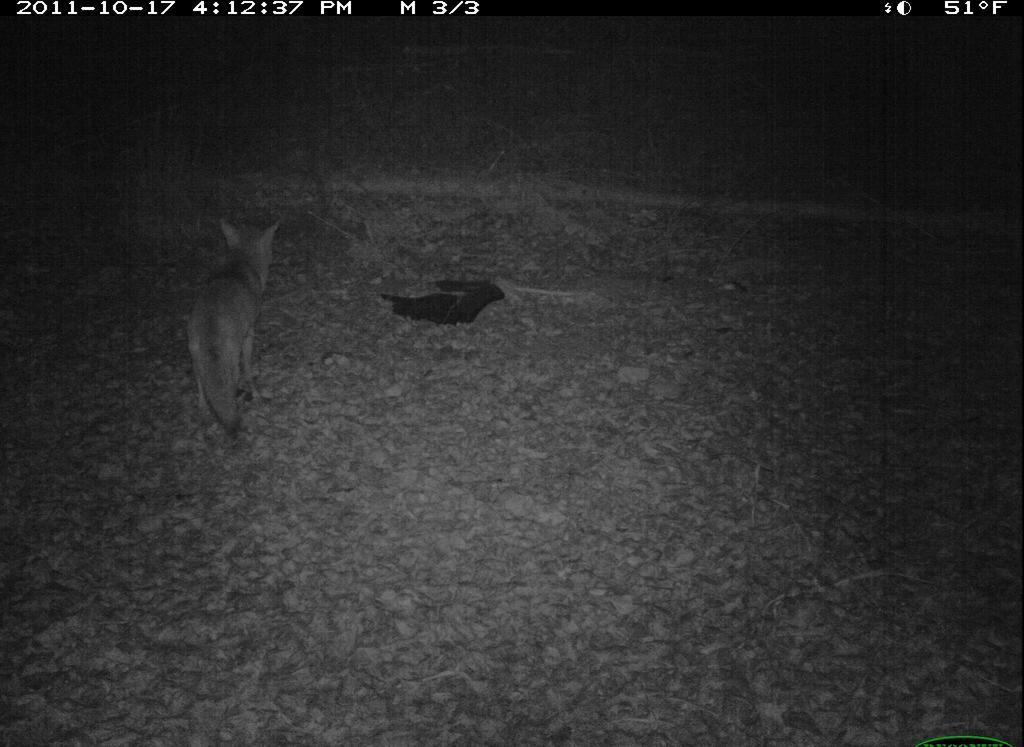coyote: (182, 216, 291, 451)
